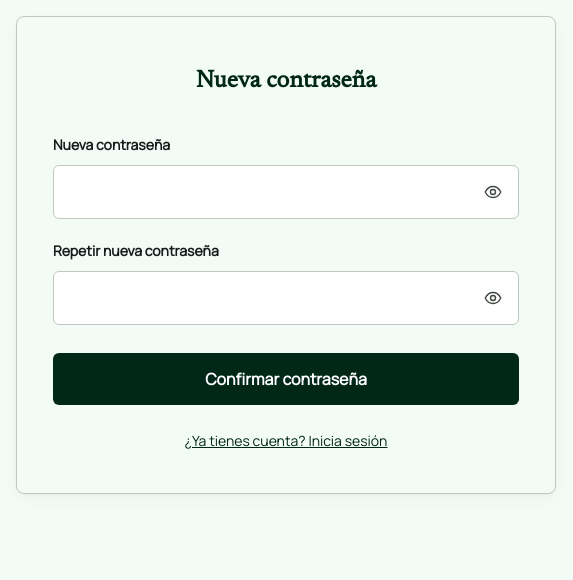
Scenario: ResetPassword Page › shows the mismatch error in real time while typing without submitting
Type "Password123!" into the password field labelled "Nueva contraseña" at [286, 192], box 53,165 -> 519,219
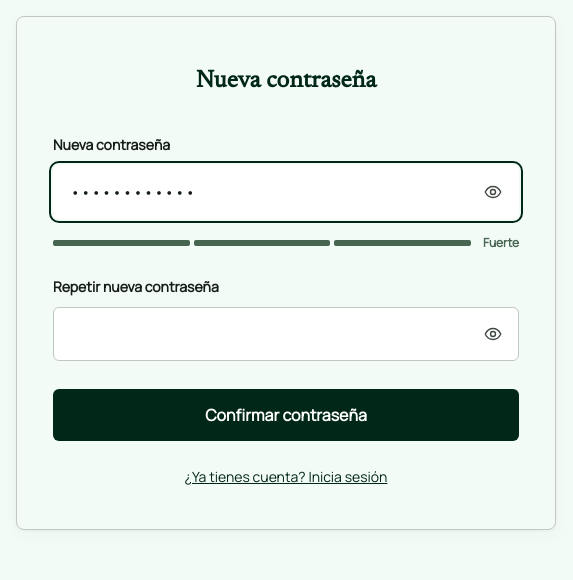
Type "Different123!" into the password field labelled "Repetir nueva contraseña" at [286, 334], box 53,307 -> 519,361
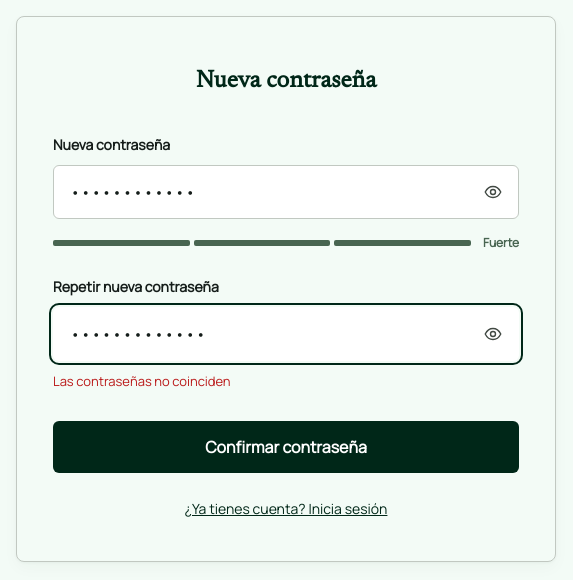
Now the text "Las contraseñas no coinciden" is shown, box 53,372 -> 231,390
